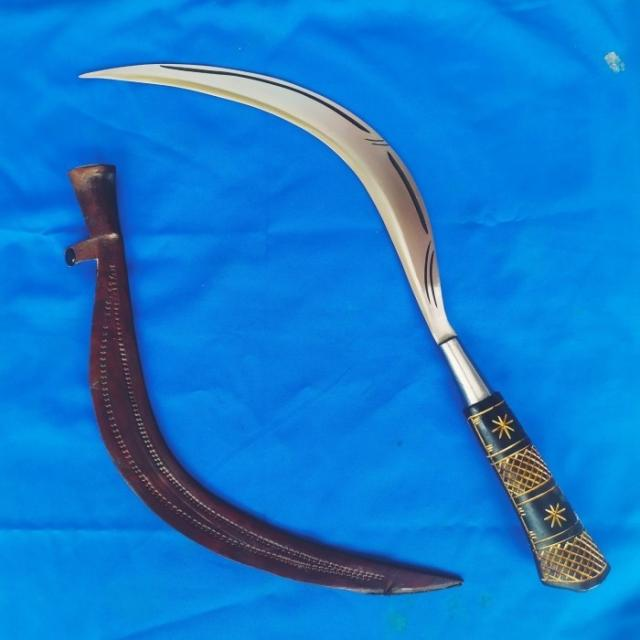Celurit: (79, 61, 612, 596)
